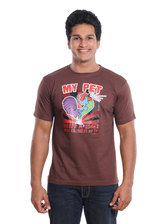clothoes: (30, 62, 137, 188)
